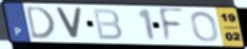1: (138, 8, 157, 43)
B: (91, 8, 125, 41)
D: (24, 5, 57, 41)
F: (157, 7, 187, 45)
O: (189, 10, 220, 43)
V: (53, 6, 85, 41)
